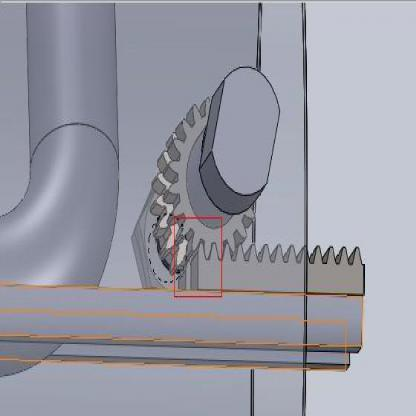FOD: (171, 91, 255, 260)
